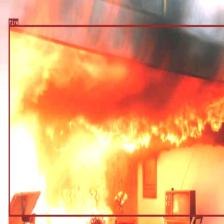fire: (8, 25, 224, 216)
